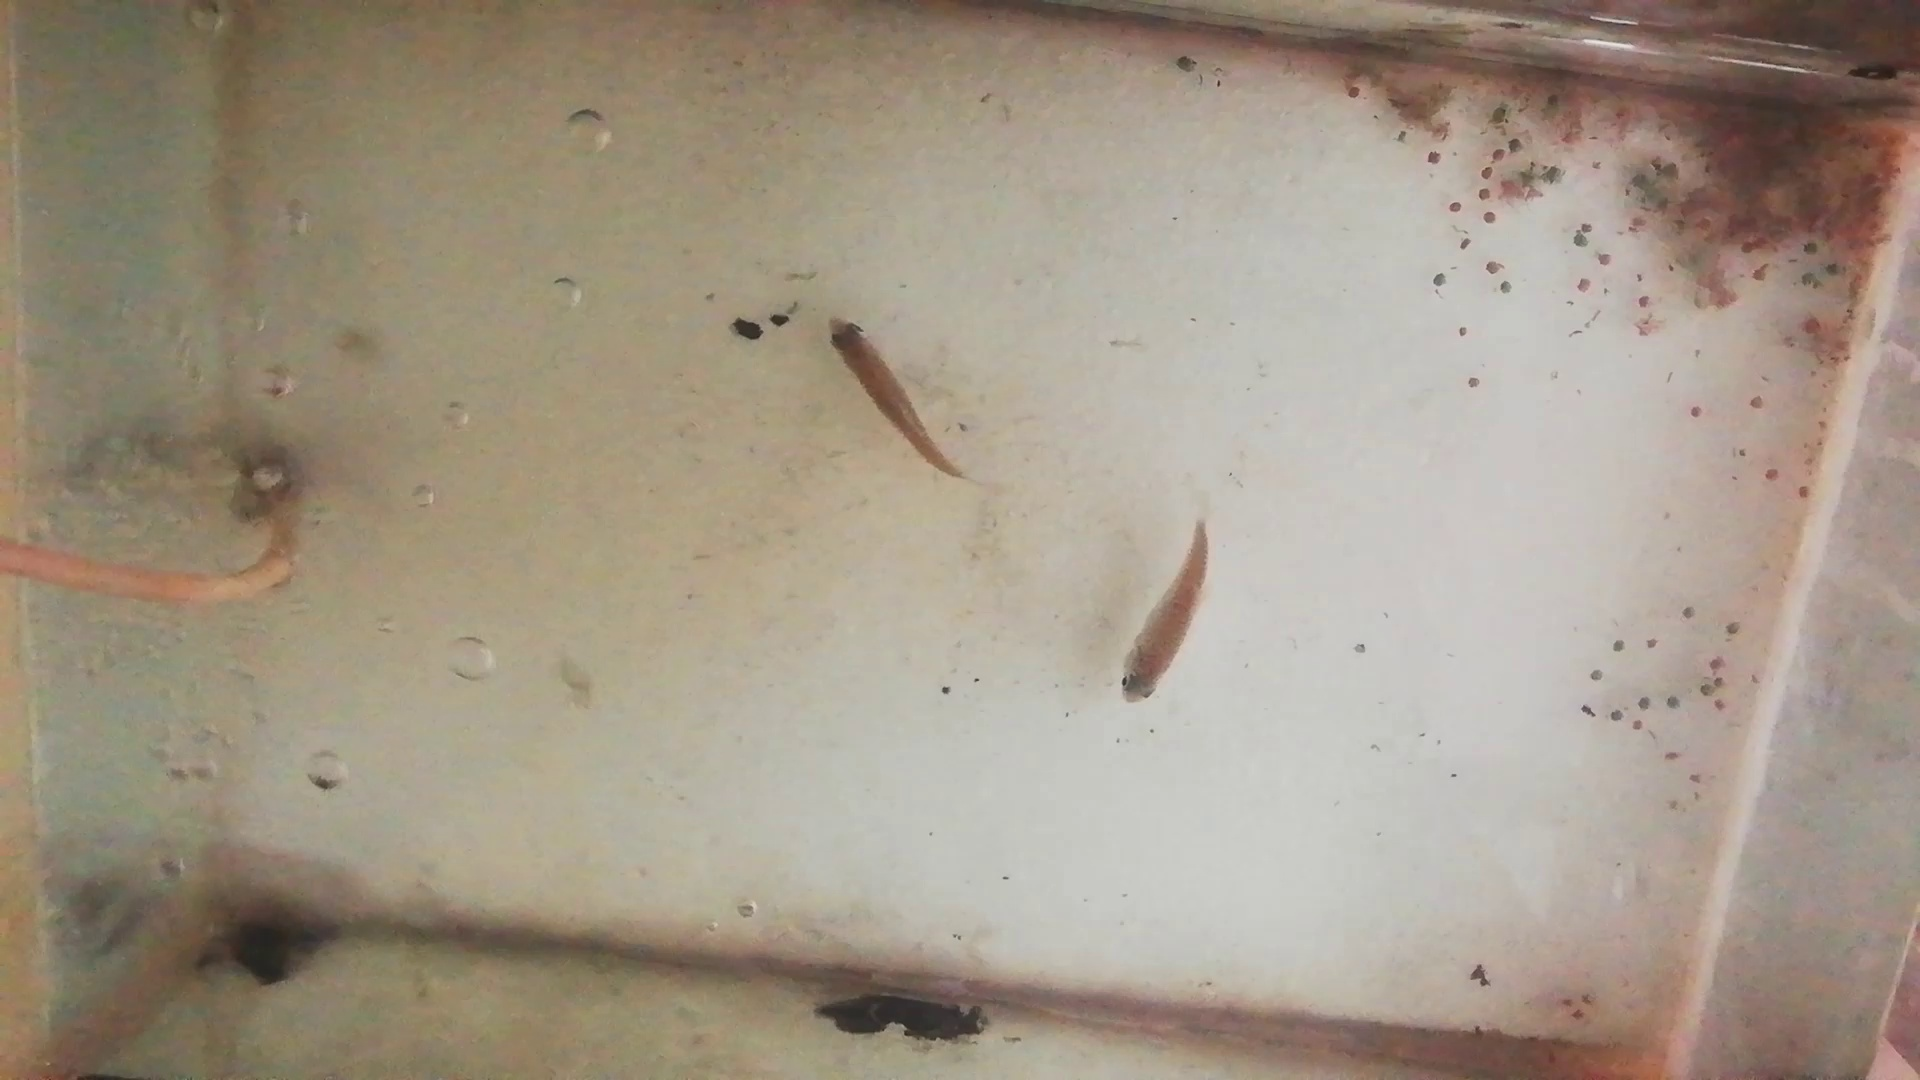fish: (825, 316, 971, 483), (1120, 521, 1212, 709)
